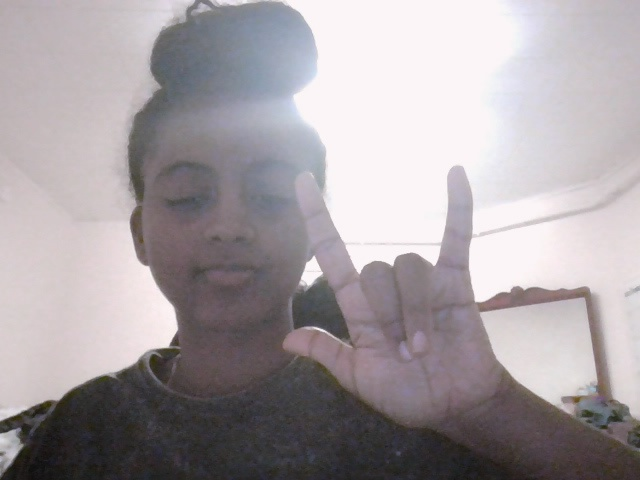ILoveYou: (273, 158, 513, 468)
